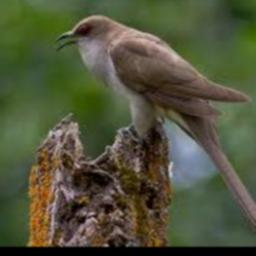Cuckoo: (54, 15, 256, 244)
